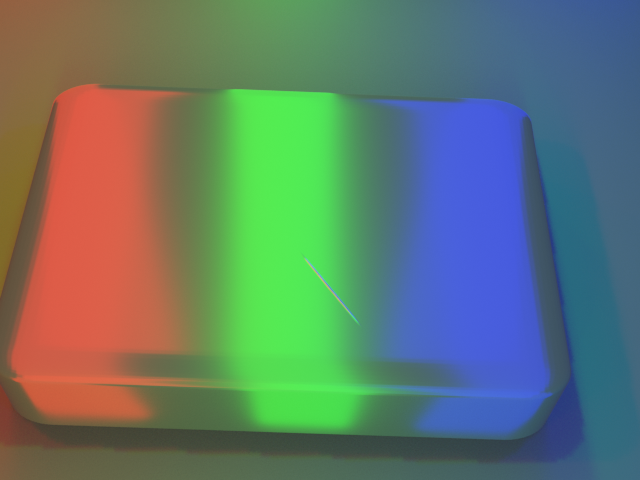scratch: (156, 198, 499, 404)
